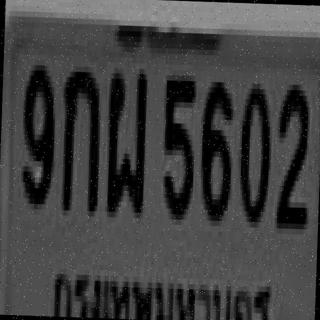A01: (58, 61, 101, 211)
A28: (103, 65, 148, 215)
N00: (237, 78, 272, 222)
N02: (274, 79, 309, 224)
N05: (160, 69, 195, 214)
N06: (198, 76, 232, 216)
N09: (18, 59, 55, 204)
